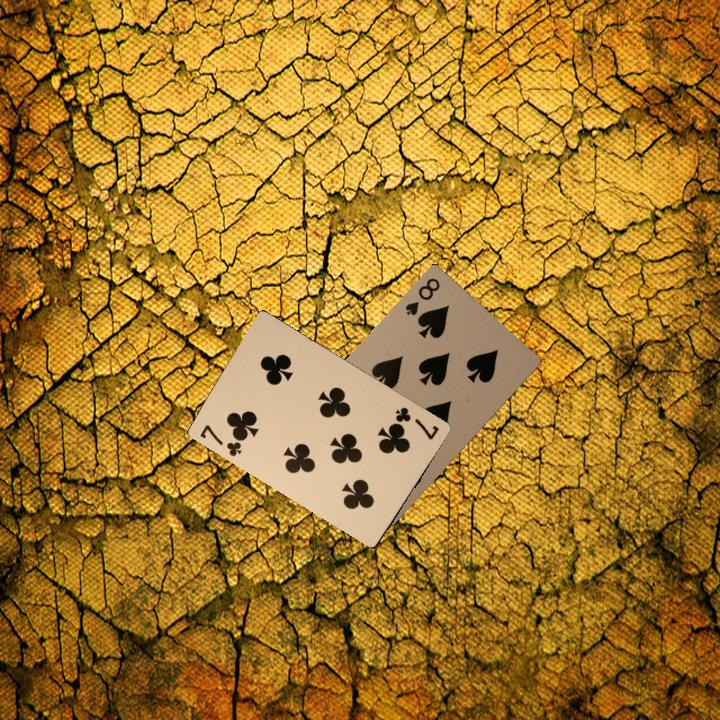7c: (196, 420, 247, 459), (391, 403, 441, 442)
8s: (401, 274, 443, 318)
